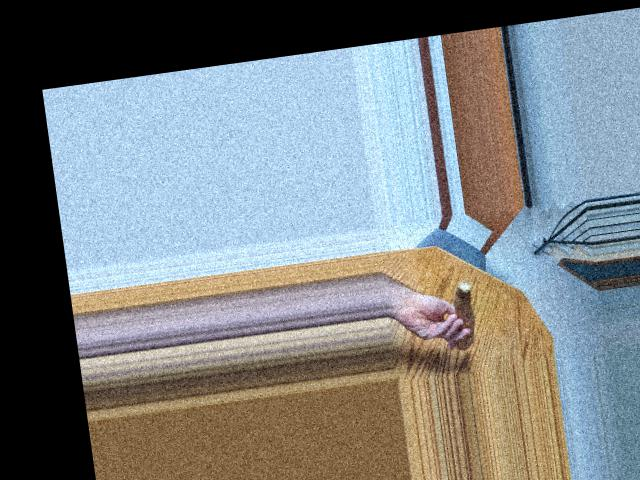sweet_potato: (442, 278, 481, 350)
